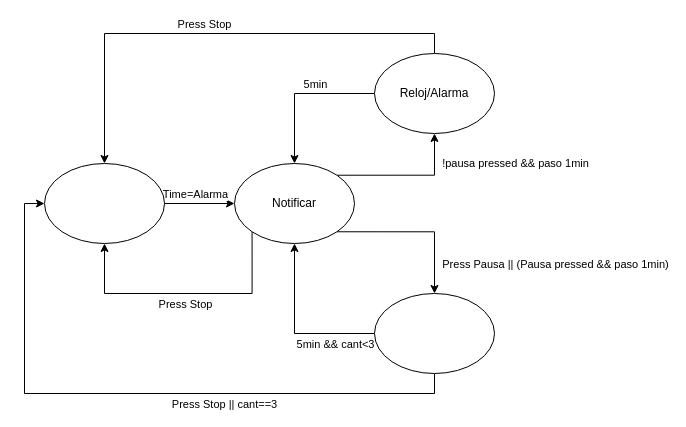
Some shapes in this 686 by 427 pixel diagram are drawn without their labels. Here are the shapes that lost their labels. From the top down, the box of each, then its label:
(44, 162, 164, 244): Reloj
(374, 292, 494, 374): Reloj/Pausa
